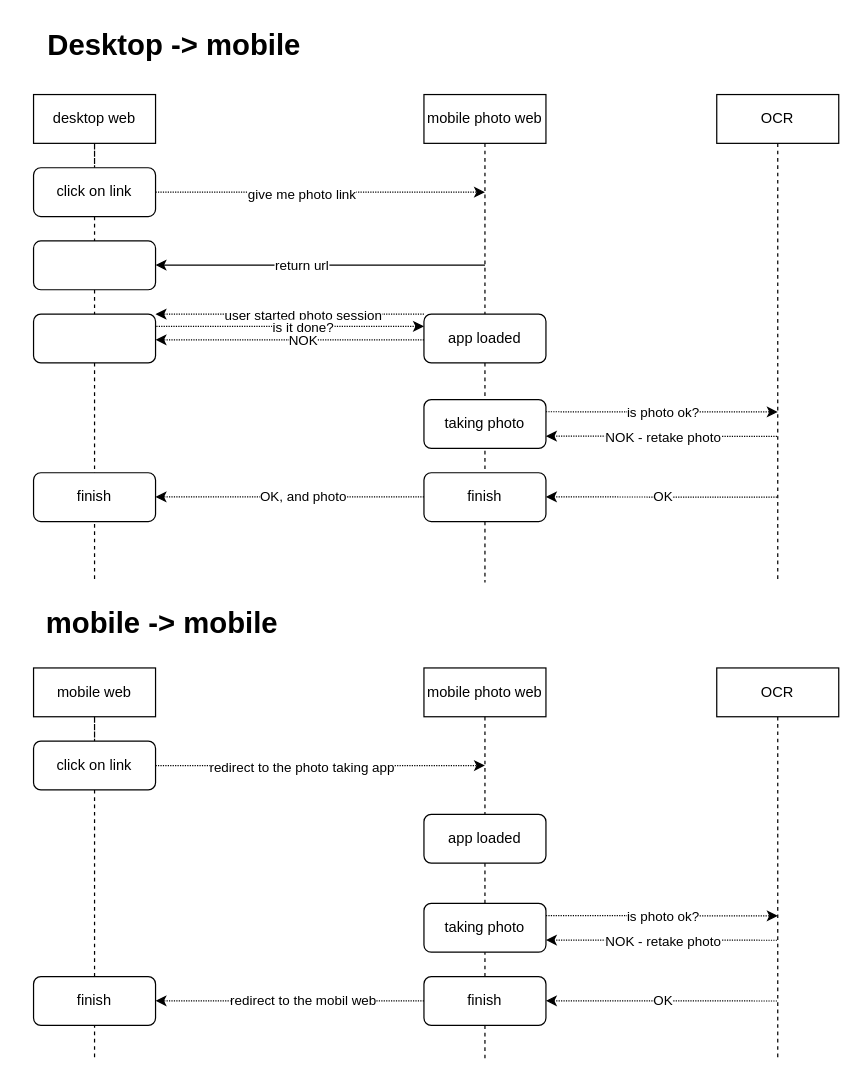
The diagram is 860 pixels wide and 1081 high, and some of its shapes have lost their labels. The centre of each missing label's shape, as x and y in pixels:
QR code: the point at 94,265
spinner: the point at 94,338
